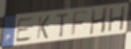E: (14, 16, 35, 44)
F: (69, 9, 91, 38)
H: (89, 6, 109, 36), (107, 5, 127, 34)
K: (35, 15, 51, 40)
T: (55, 12, 70, 39)
